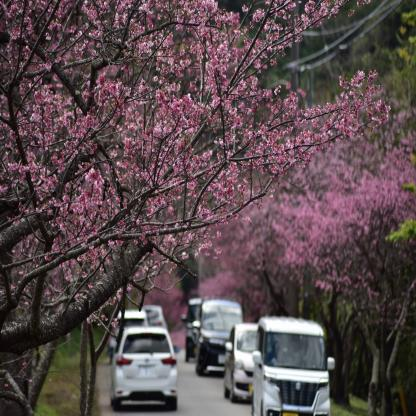KanhiSakura: (0, 0, 392, 331), (320, 127, 416, 308), (274, 142, 352, 285), (224, 201, 284, 292), (201, 272, 241, 301)
